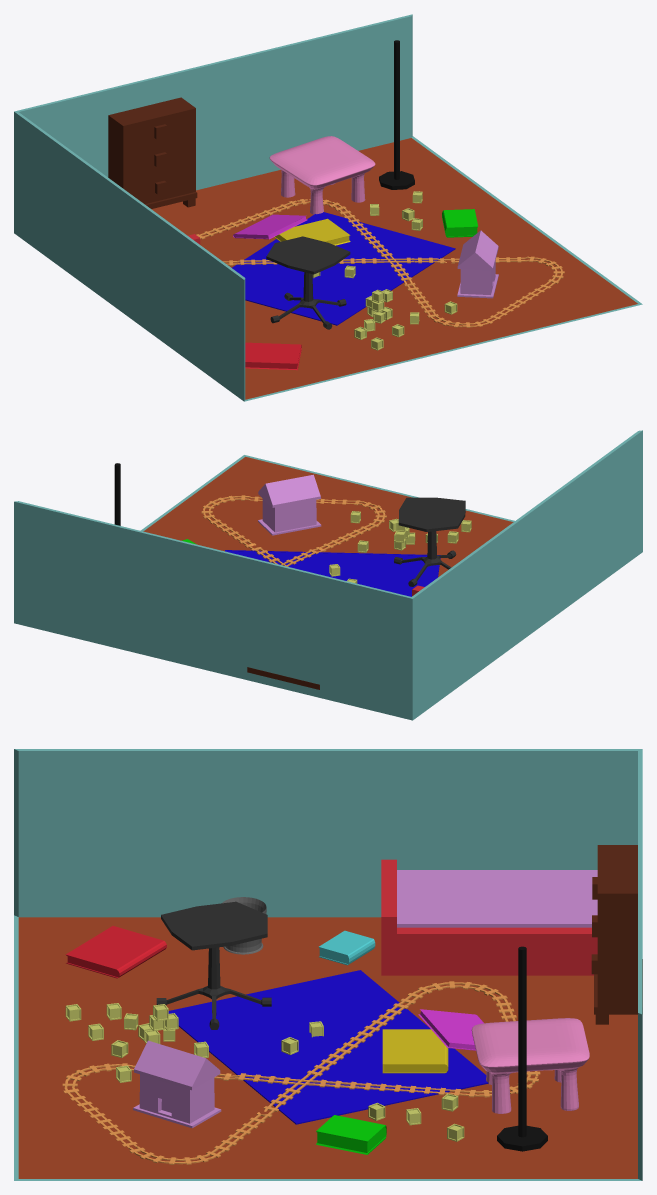
The model's file is room21.fbx.
3 views of the same model, one above another, from view 1: azimuth 30°, elevation 25°; view 2: azimuth 150°, elevation 25°; view 3: azimuth 270°, elevation 25° (orthographic). The views are drawn at different scales.
Visible parts, largest first — view 1: Plane, Cube.009, Plane.002, Cube.005, Cube.006, tracks.007, Cylinder, Cube.025, Cube, Cube.000, Cylinder.001, Cube.001 (+3 smaller); view 2: Plane, Cube.009, Plane.002, Cube, Cylinder, tracks.007, Cube.025, Cube.005, Cylinder.001; view 3: Plane, Cube.009, Plane.002, Cube.008, Cube.007, Cube.005, tracks.007, Cube.006, Cube, Cylinder, Cube.025, Cube.000 (+7 smaller).
Part boxes in pixels (box(x1,y1,x2,y2)): Plane: box(14, 14, 642, 401); Cube.009: box(151, 138, 637, 399); Plane.002: box(233, 213, 451, 323); Cube.005: box(108, 97, 197, 208); Cube.006: box(269, 136, 375, 214); tracks.007: box(196, 199, 564, 327); Cylinder: box(266, 236, 350, 329); Cube.025: box(312, 191, 457, 350); Cube: box(457, 230, 498, 298); Cube.000: box(245, 342, 301, 370); Cylinder.001: box(379, 40, 414, 189); Cube.001: box(274, 218, 350, 245); Plane: box(14, 430, 642, 720); Cube.009: box(143, 456, 513, 577); Plane.002: box(227, 551, 436, 596); Cube: box(258, 474, 321, 535); Cylinder: box(394, 497, 465, 586); tracks.007: box(201, 495, 386, 566); Cube.025: box(329, 511, 471, 583); Cube.005: box(247, 667, 319, 689); Cylinder.001: box(114, 463, 120, 525); Plane: box(14, 749, 642, 1180); Cube.009: box(18, 917, 637, 1178); Plane.002: box(168, 972, 486, 1121); Cube.008: box(397, 870, 597, 927); Cube.007: box(381, 859, 597, 975); Cube.005: box(591, 845, 642, 1024); tracks.007: box(62, 981, 540, 1164); Cube.006: box(471, 1018, 589, 1113); Cube: box(133, 1040, 221, 1128); Cylinder: box(156, 901, 271, 1029); Cube.025: box(65, 1003, 464, 1141); Cube.000: box(65, 926, 166, 978).
Size of the model in its own units: 3000 by 1040 by 3001.
